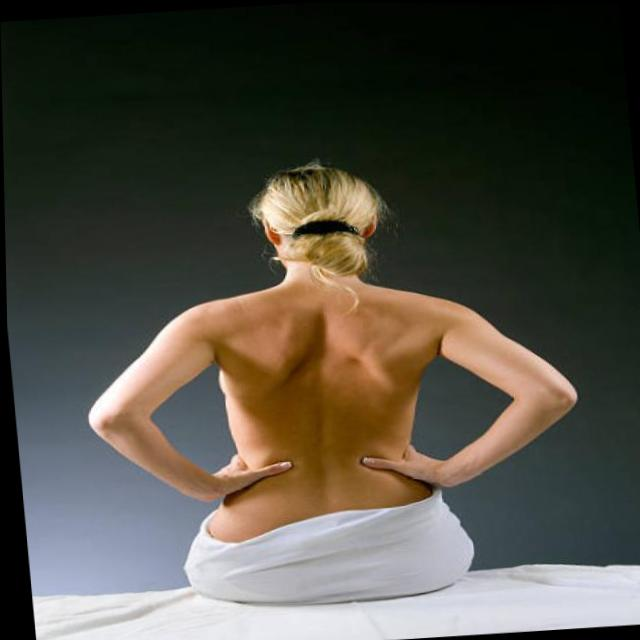no helmet: (251, 152, 388, 279)
